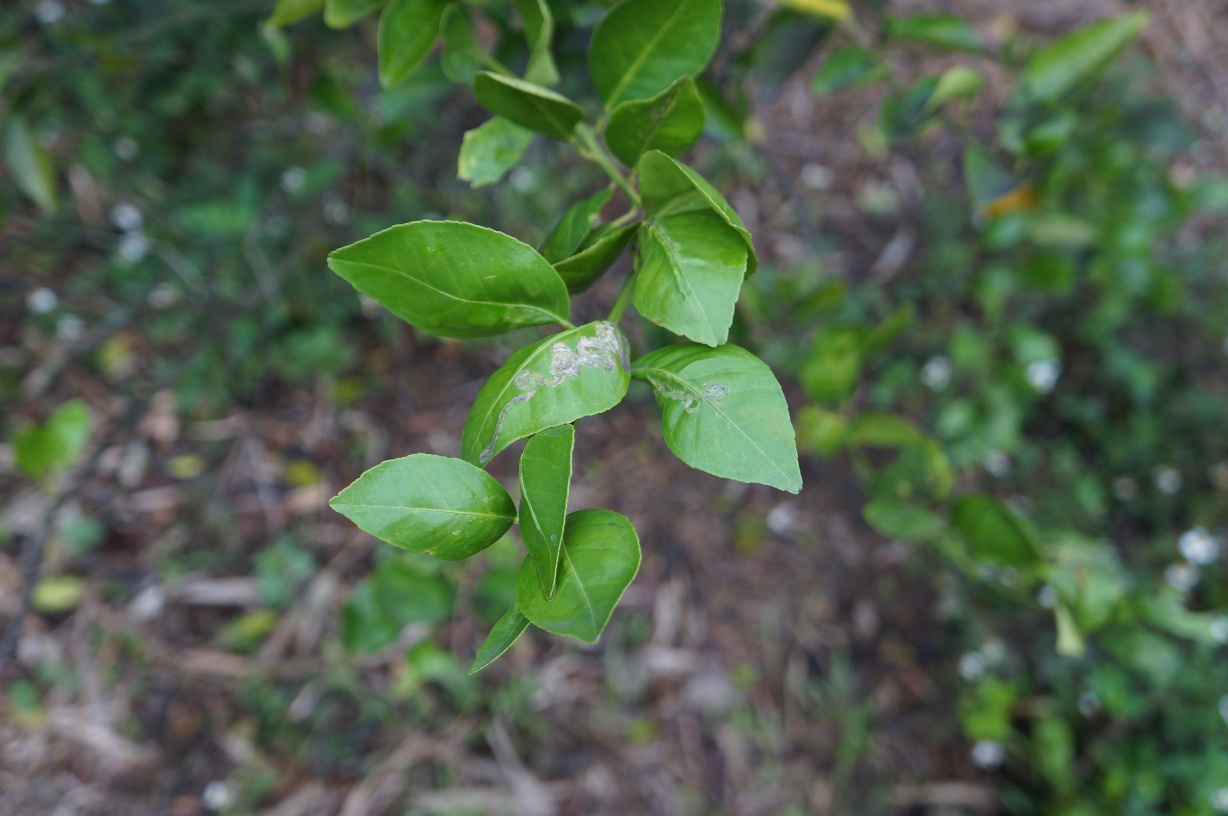damage: (474, 315, 634, 466), (647, 379, 733, 411)
